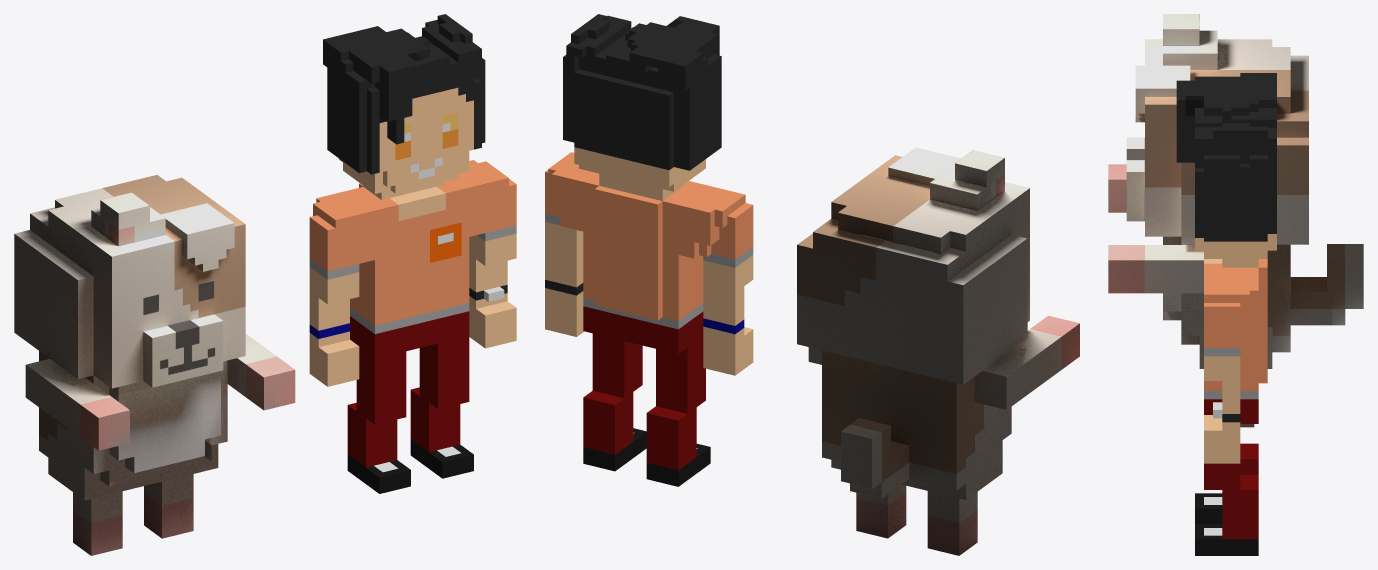
3 views of the same model, side by side, from view 1: azimuth 30°, elevation 25°; view 2: azimuth 150°, elevation 25°; view 3: azimuth 270°, elevation 25° (orthographic).
Visible parts, largest first — view 1: updatedhuman, main; view 2: main, updatedhuman; view 3: main, updatedhuman.
Part boxes in pixels (x1=…): updatedhuman: x1=309, y1=14, x2=516, y2=493; main: x1=14, y1=175, x2=295, y2=555; main: x1=797, y1=147, x2=1079, y2=555; updatedhuman: x1=545, y1=14, x2=753, y2=486; main: x1=1108, y1=14, x2=1363, y2=427; updatedhuman: x1=1176, y1=73, x2=1276, y2=555.
Size of the model in its own units: 5.92 by 5.23 by 2.8.
2 materials, 2 textured.
